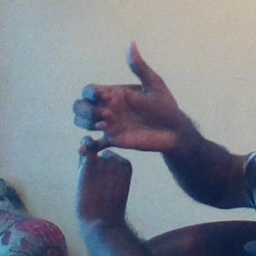S: (69, 36, 174, 202)
